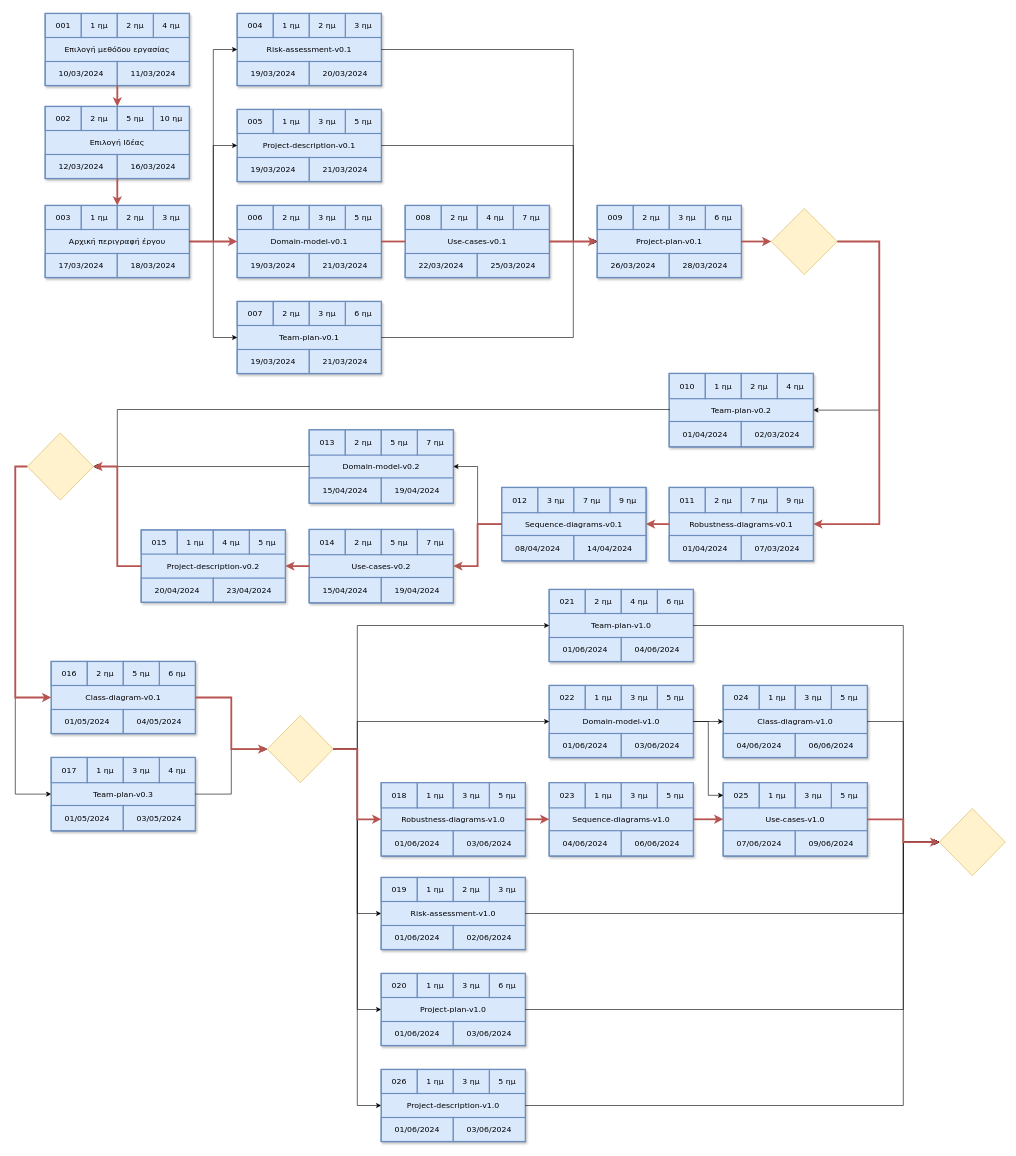
Image size: 1016x1156. Some labels were removed from this diagram. Each missing label, with the centre of its shape:
"1η Παράδοση" goes at point 804,241.
"2η Παράδοση" goes at point 60,466.
"3η Παράδοση" goes at point 300,749.
"4η Παράδοση" goes at point 972,842.
